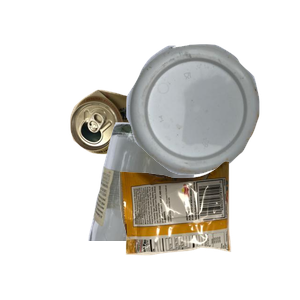glass: (86, 120, 277, 300)
metal: (67, 87, 206, 234)
plastic: (124, 42, 300, 210)
trash: (117, 159, 300, 300)
